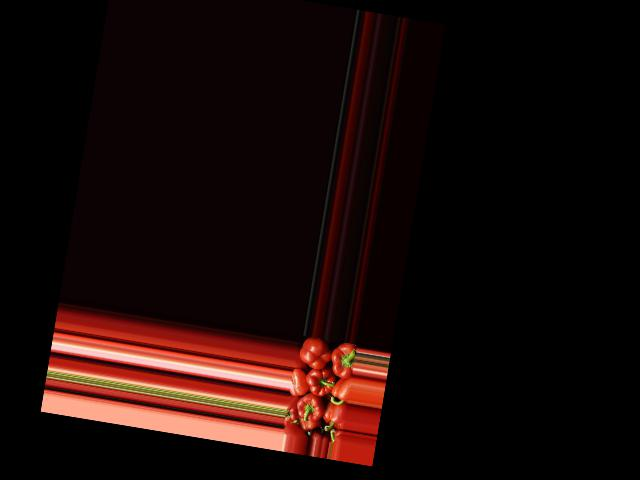bell_pepper: (289, 366, 309, 397)
